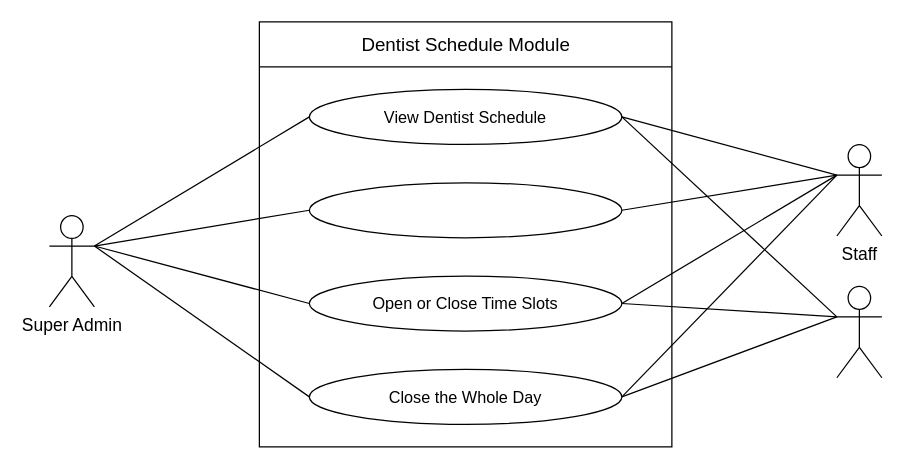
The diagram is 908 pixels wide and 469 high, and some of its shapes have lost their labels. The shapes that lost their labels are listed below. From the top down, each one's centre as x and y in pixels, then its label:
(x=465, y=210): Select Dentist and Month
(x=859, y=331): Dentist
